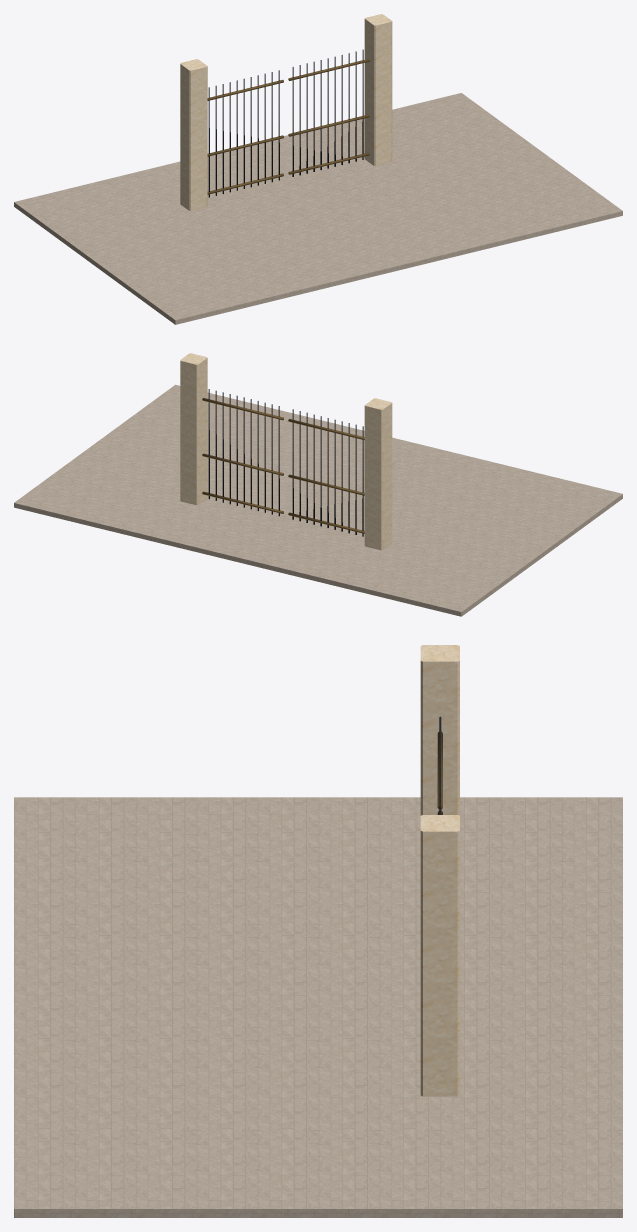
The model's file is finish_park_main_gate.glb.
The picture shows the model from 3 angles, top to bottom: view 1: azimuth 30°, elevation 25°; view 2: azimuth 150°, elevation 25°; view 3: azimuth 270°, elevation 25°; orthographic projection. The views are drawn at different scales.
Parts seen in each view (by area): view 1: Rebuilt_finish_park_main_gate; view 2: Rebuilt_finish_park_main_gate; view 3: Rebuilt_finish_park_main_gate.
Boxes of the visible parts, x1=… form: Rebuilt_finish_park_main_gate: x1=14, y1=14, x2=622, y2=324; Rebuilt_finish_park_main_gate: x1=14, y1=353, x2=622, y2=616; Rebuilt_finish_park_main_gate: x1=14, y1=645, x2=622, y2=1217.
Size of the model in its own units: 16 by 4.96 by 10.
4 materials, 4 textured.
